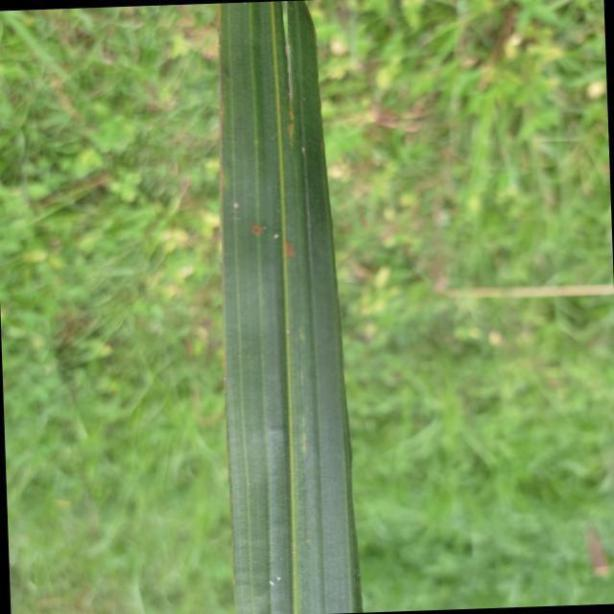Boron: (217, 1, 359, 614)
